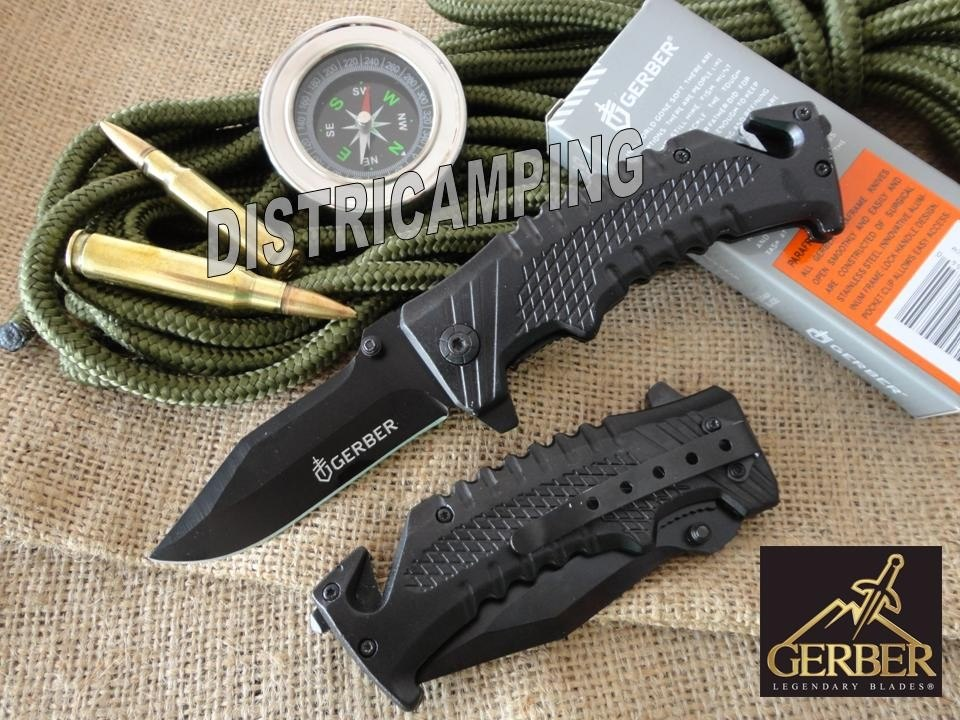knife: (135, 317, 462, 576)
